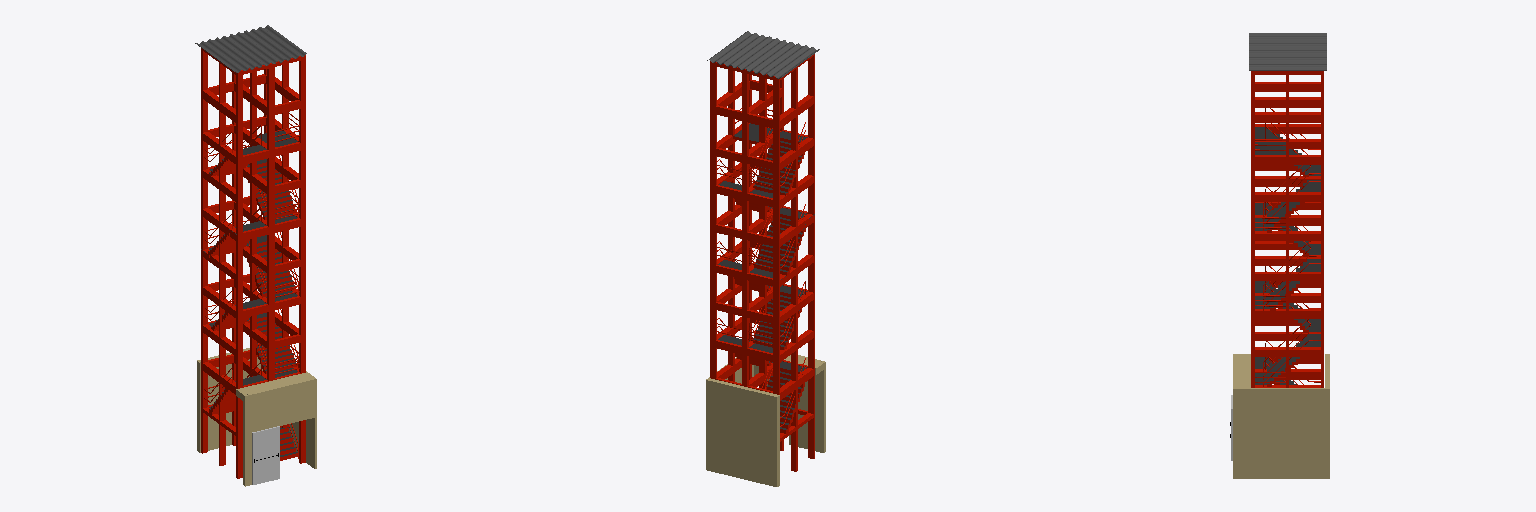
Rendered from emergencia.obj.
3 views of the same model, side by side, from view 1: azimuth 30°, elevation 25°; view 2: azimuth 150°, elevation 25°; view 3: azimuth 270°, elevation 25° (orthographic).
Visible parts, largest first — view 1: ESCALERA_EMERGENCIA_ESTRUCTURA_Cube.032, ETRADA_ESCA_Cube.026, ESCALERA_EMERGENCIASuspended_WalkWay.003_Suspended_WalkWay.003, PUERTA5_Cube.129, BARANDAL_ESCALERA_EMERGENCIA_Rail.006; view 2: ESCALERA_EMERGENCIA_ESTRUCTURA_Cube.032, ETRADA_ESCA_Cube.026, ESCALERA_EMERGENCIASuspended_WalkWay.003_Suspended_WalkWay.003, BARANDAL_ESCALERA_EMERGENCIA_Rail.006; view 3: ESCALERA_EMERGENCIA_ESTRUCTURA_Cube.032, ETRADA_ESCA_Cube.026, ESCALERA_EMERGENCIASuspended_WalkWay.003_Suspended_WalkWay.003, BARANDAL_ESCALERA_EMERGENCIA_Rail.006.
Part boxes in pixels (x1,y1,x2,y2): ESCALERA_EMERGENCIA_ESTRUCTURA_Cube.032: (195, 25, 306, 478); ETRADA_ESCA_Cube.026: (197, 348, 316, 486); ESCALERA_EMERGENCIASuspended_WalkWay.003_Suspended_WalkWay.003: (201, 129, 297, 460); PUERTA5_Cube.129: (252, 426, 279, 484); BARANDAL_ESCALERA_EMERGENCIA_Rail.006: (204, 125, 298, 458); ESCALERA_EMERGENCIA_ESTRUCTURA_Cube.032: (707, 31, 819, 471); ETRADA_ESCA_Cube.026: (706, 355, 825, 486); ESCALERA_EMERGENCIASuspended_WalkWay.003_Suspended_WalkWay.003: (718, 123, 814, 433); BARANDAL_ESCALERA_EMERGENCIA_Rail.006: (717, 122, 805, 426); ESCALERA_EMERGENCIA_ESTRUCTURA_Cube.032: (1249, 33, 1326, 387); ETRADA_ESCA_Cube.026: (1233, 354, 1329, 478); ESCALERA_EMERGENCIASuspended_WalkWay.003_Suspended_WalkWay.003: (1255, 127, 1320, 386); BARANDAL_ESCALERA_EMERGENCIA_Rail.006: (1263, 108, 1320, 386).
Size of the model in its own units: 5.57 by 29.37 by 6.5.